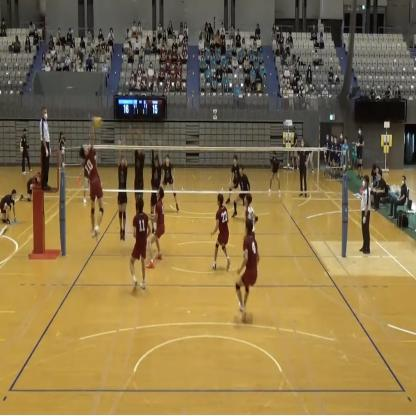spike: (79, 116, 107, 244)
